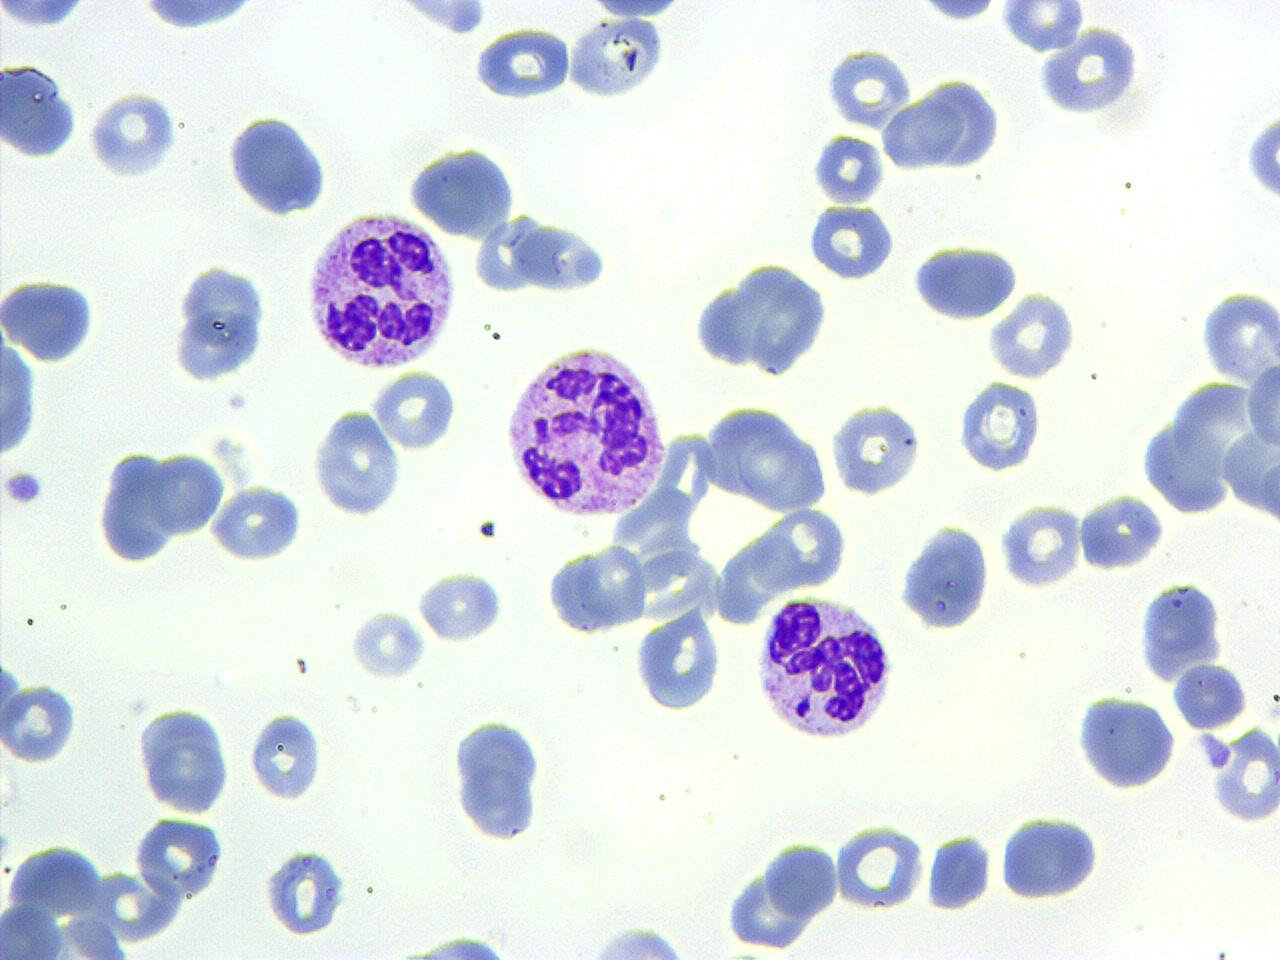Platelets: (85, 89, 180, 182), (998, 499, 1082, 593), (471, 26, 572, 101), (348, 606, 426, 682), (923, 829, 993, 911), (1168, 662, 1250, 730), (812, 131, 884, 206), (998, 2, 1082, 54), (386, 1, 494, 38), (1245, 111, 1279, 204), (398, 934, 516, 960), (914, 1, 1006, 24), (1, 466, 47, 508), (1196, 730, 1234, 772), (446, 1, 487, 35), (477, 517, 498, 541), (0, 827, 13, 861), (1266, 696, 1280, 722)
RBC: (296, 0, 796, 367), (1074, 685, 1180, 796), (544, 538, 651, 637), (827, 398, 926, 500), (917, 71, 1008, 172), (1198, 282, 1280, 393), (833, 820, 926, 913), (752, 504, 850, 592), (738, 426, 829, 514), (133, 812, 226, 899), (998, 500, 1084, 592), (822, 44, 914, 130), (470, 26, 571, 102), (372, 366, 461, 452), (804, 201, 897, 282), (246, 710, 324, 804), (150, 450, 226, 539), (346, 606, 428, 681), (474, 212, 542, 296), (998, 1, 1085, 53)
WBC: (35, 0, 781, 365), (714, 0, 1255, 488), (0, 666, 360, 960), (287, 0, 821, 130), (904, 0, 1255, 147), (500, 339, 672, 522), (300, 204, 462, 375), (1133, 354, 1279, 530), (750, 590, 898, 747), (687, 255, 834, 381), (722, 836, 844, 956), (170, 256, 277, 388), (1031, 19, 1157, 128), (449, 713, 547, 844), (222, 110, 334, 220), (405, 141, 520, 243), (133, 701, 234, 817), (896, 519, 995, 635), (308, 404, 406, 518), (1072, 690, 1180, 793), (543, 542, 650, 640), (632, 604, 726, 716), (996, 808, 1106, 902), (95, 446, 180, 566), (831, 819, 931, 921), (1136, 576, 1228, 686), (561, 12, 670, 104), (828, 398, 926, 500), (908, 238, 1022, 323), (1, 273, 103, 366), (913, 73, 1007, 172), (985, 288, 1081, 382), (209, 478, 310, 566), (752, 503, 850, 594), (956, 375, 1043, 475), (133, 812, 228, 902), (261, 844, 349, 940), (512, 217, 614, 296), (2, 61, 81, 161), (471, 26, 574, 102), (823, 43, 912, 130), (1076, 488, 1166, 574), (806, 201, 899, 283), (416, 566, 509, 646), (247, 708, 323, 804), (1, 677, 82, 766), (1209, 725, 1279, 828), (150, 447, 224, 538), (1, 322, 45, 464), (348, 605, 426, 683), (558, 922, 714, 960), (924, 830, 992, 914), (1169, 659, 1249, 730), (123, 0, 277, 33), (376, 929, 534, 959), (373, 0, 497, 38), (0, 0, 104, 31)
